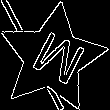M_SW: (20, 25, 84, 91)
